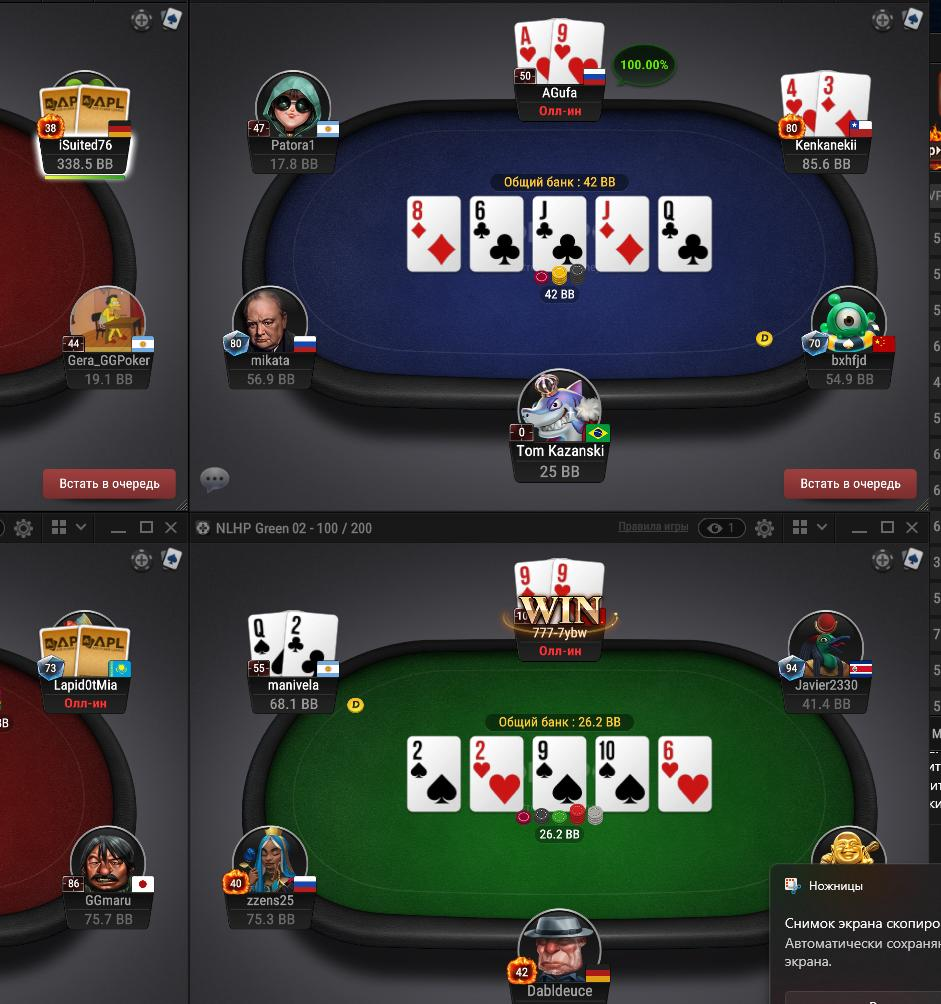10s: (597, 737, 650, 812)
2c: (285, 610, 340, 680)
2h: (470, 737, 523, 810)
2s: (407, 737, 463, 811)
3d: (817, 71, 871, 136)
4h: (780, 71, 819, 137)
6c: (470, 197, 524, 272)
6h: (659, 735, 714, 812)
8d: (409, 195, 458, 270)
9d: (512, 560, 551, 601)
9h: (552, 16, 604, 83), (549, 559, 606, 597)
9s: (534, 737, 587, 808)
Ah: (513, 21, 552, 81)
Jc: (533, 196, 586, 270)
Jd: (596, 198, 650, 271)
Qc: (658, 196, 712, 273)
Qs: (247, 612, 288, 677)
